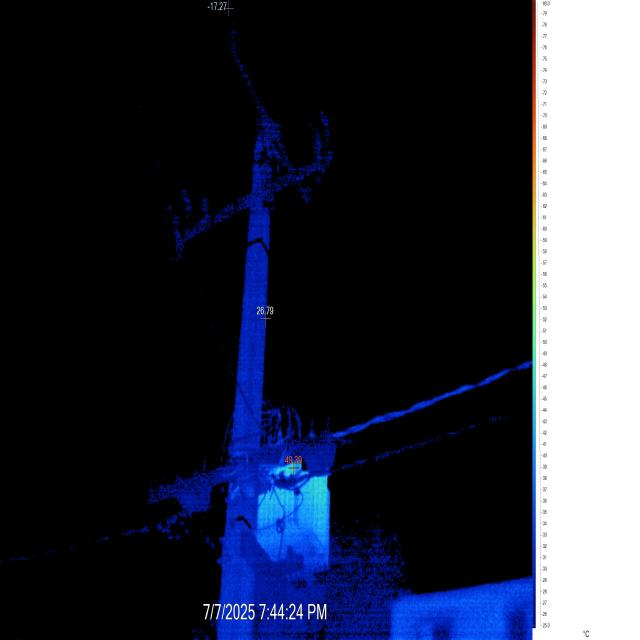Transformer: (10, 7, 532, 638)
